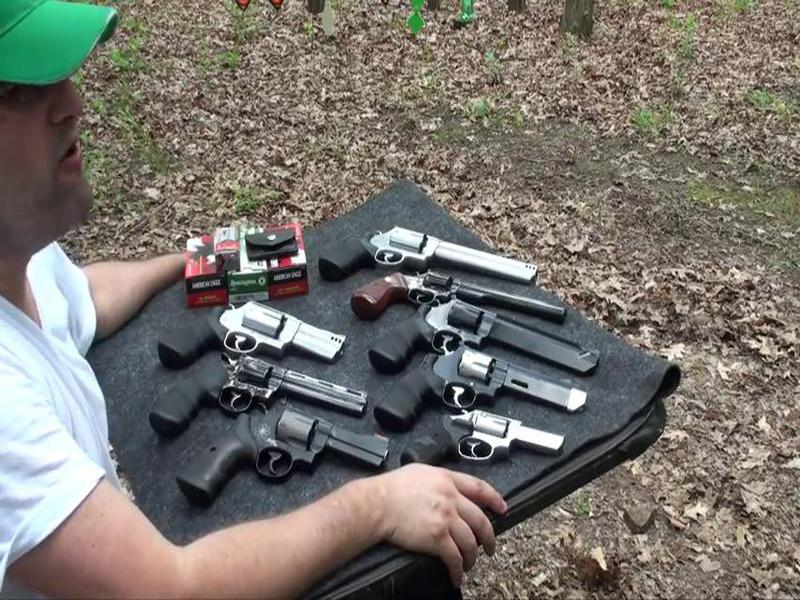Revolver: (398, 409, 576, 480)
